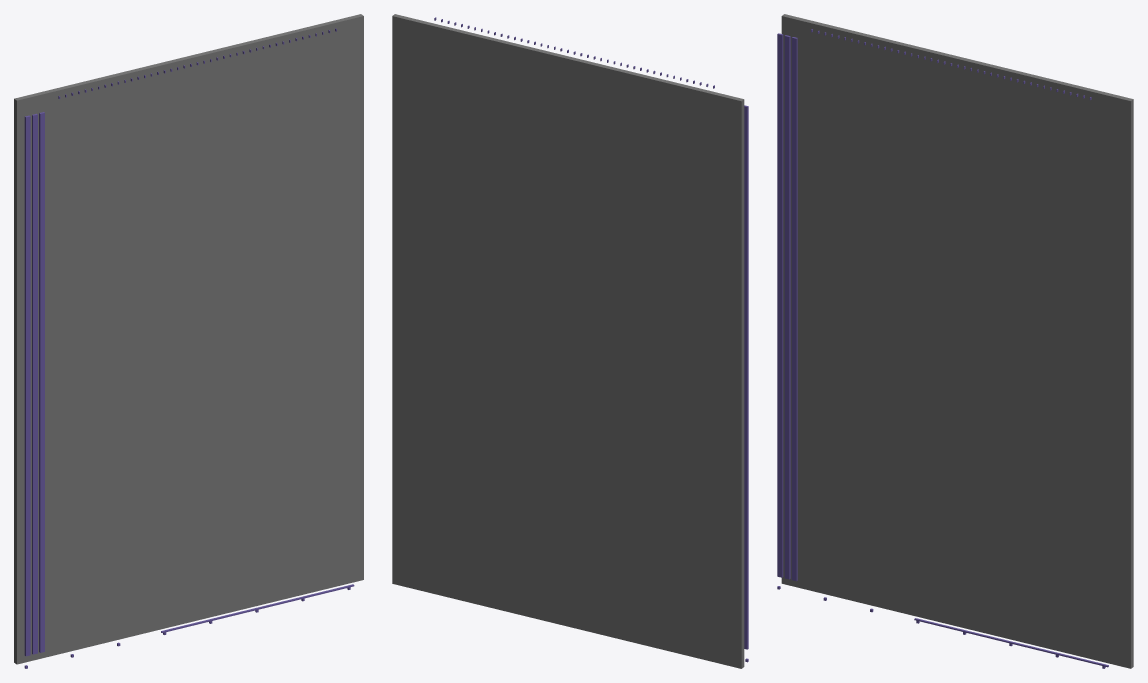
The model's file is tinytapeout.gds.gltf.
The picture shows the model from 3 angles, left to right: view 1: azimuth 30°, elevation 25°; view 2: azimuth 150°, elevation 25°; view 3: azimuth 330°, elevation 25°; orthographic projection.
Visible parts, largest first — view 1: tt_um_tatzeltapeout_substrate, tt_um_tatzeltapeout_met4; view 2: tt_um_tatzeltapeout_substrate, tt_um_tatzeltapeout_met4; view 3: tt_um_tatzeltapeout_substrate, tt_um_tatzeltapeout_met4.
Boxes of the visible parts, bbox=[...] form: tt_um_tatzeltapeout_substrate: bbox=[14, 14, 363, 664]; tt_um_tatzeltapeout_met4: bbox=[24, 28, 354, 668]; tt_um_tatzeltapeout_substrate: bbox=[392, 14, 744, 668]; tt_um_tatzeltapeout_met4: bbox=[434, 17, 748, 662]; tt_um_tatzeltapeout_substrate: bbox=[781, 14, 1133, 668]; tt_um_tatzeltapeout_met4: bbox=[777, 29, 1108, 668].
Size of the model in its own units: 145 by 226 by 6.87.
